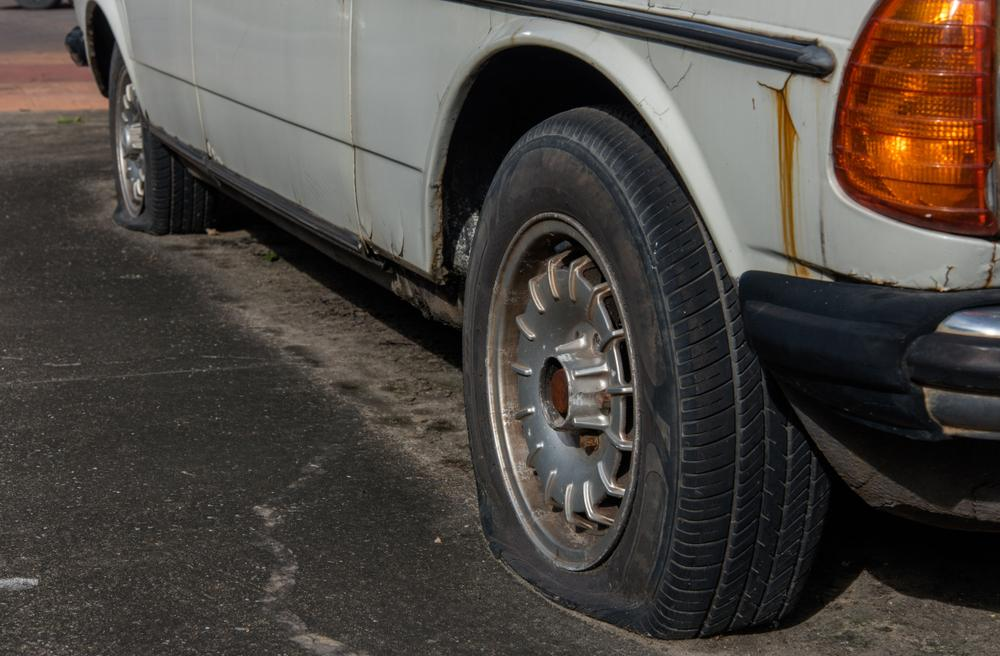tire flat: (460, 101, 827, 637), (108, 40, 217, 236)
